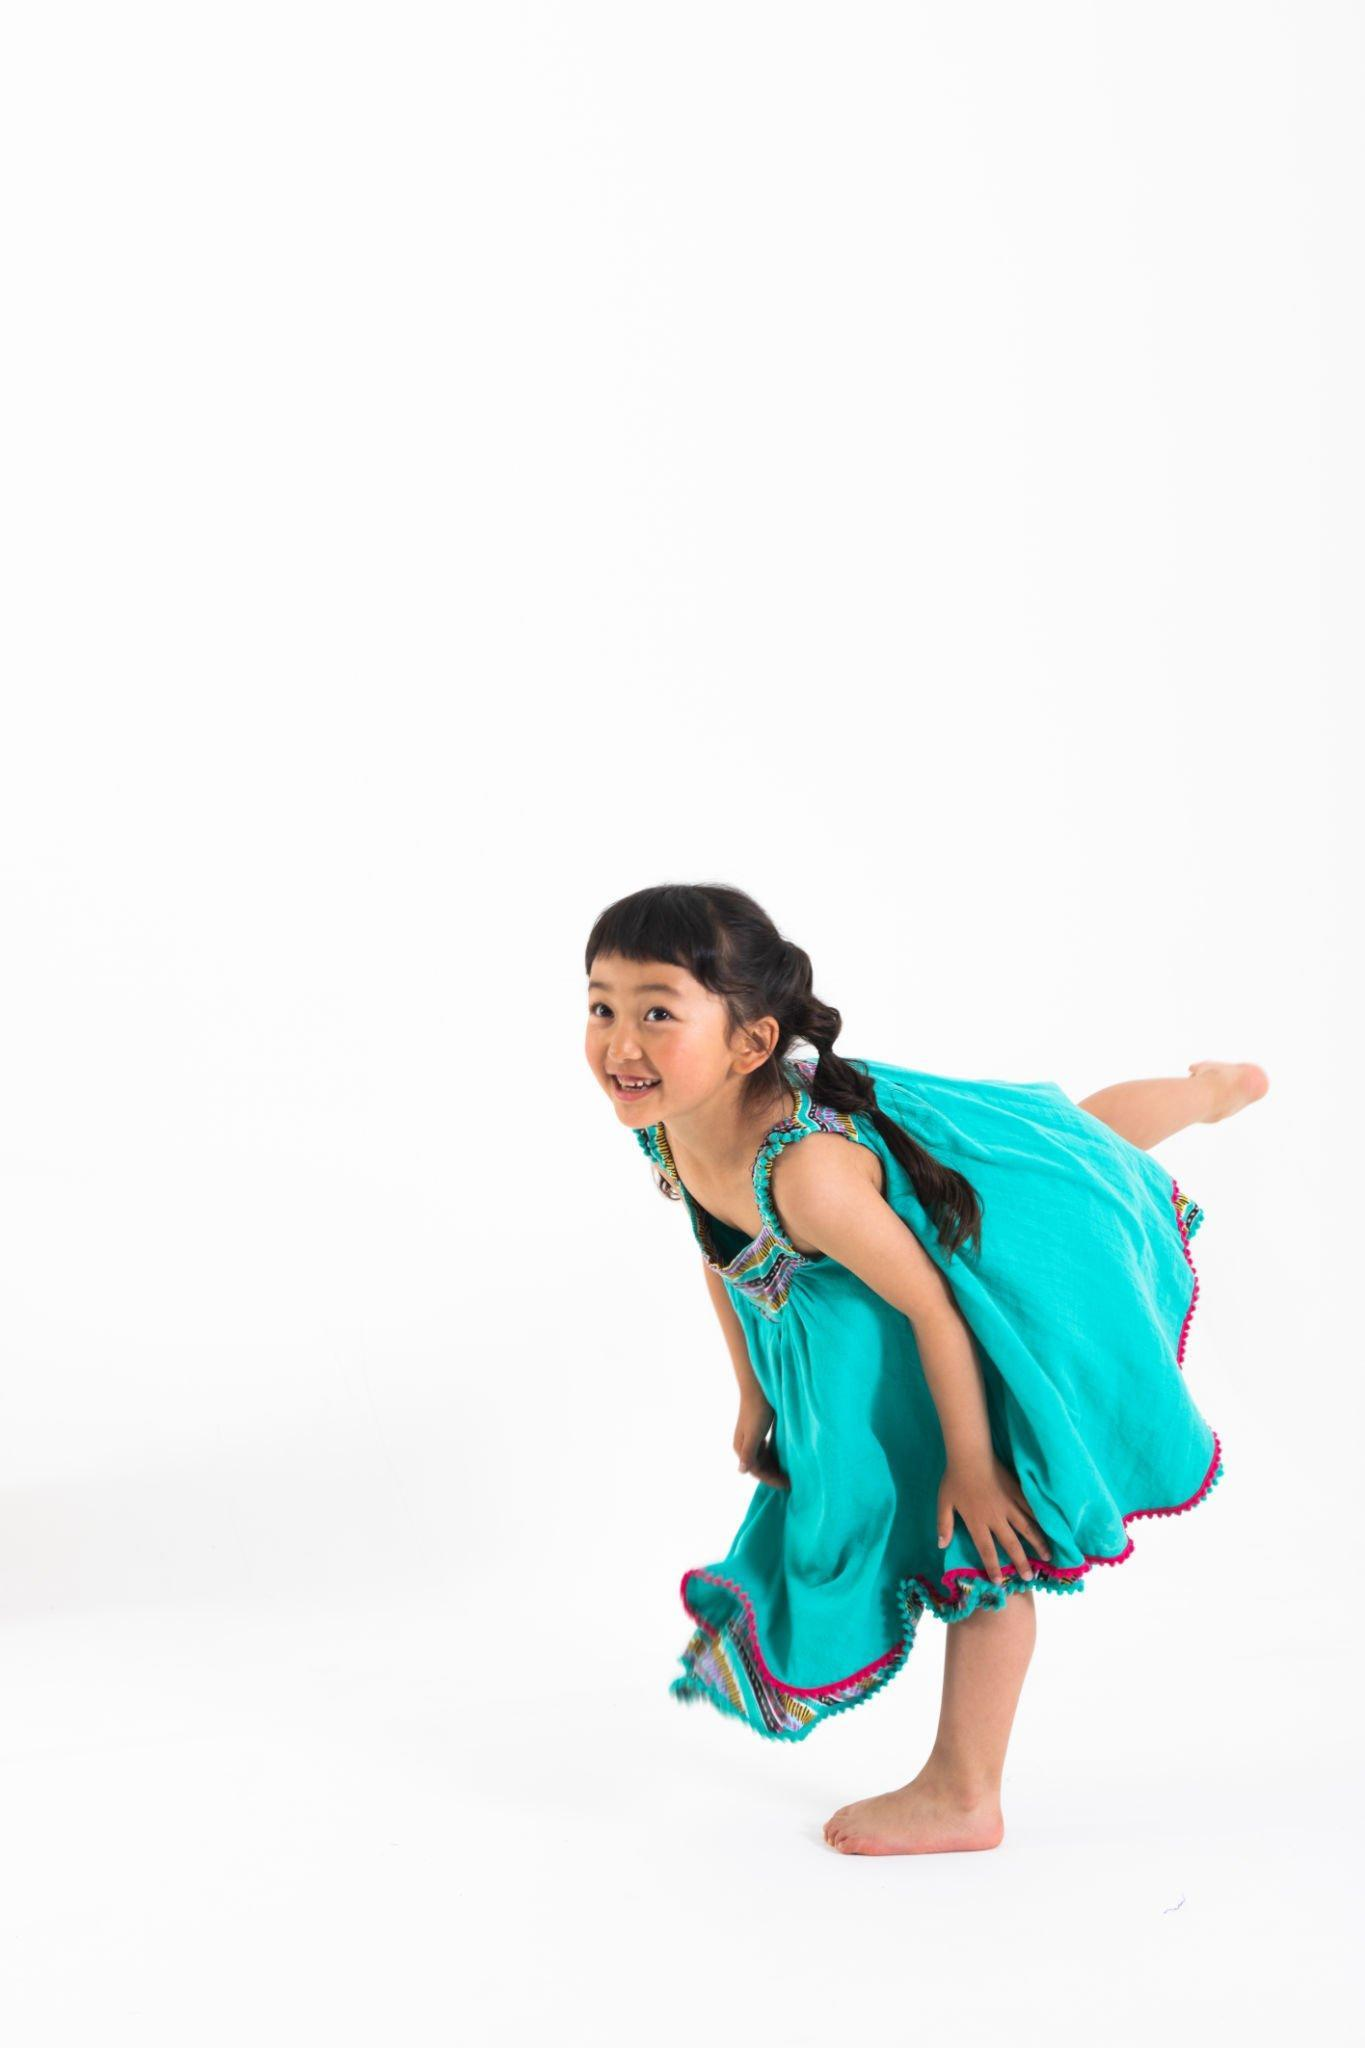Healthy: (547, 921, 775, 1150)
